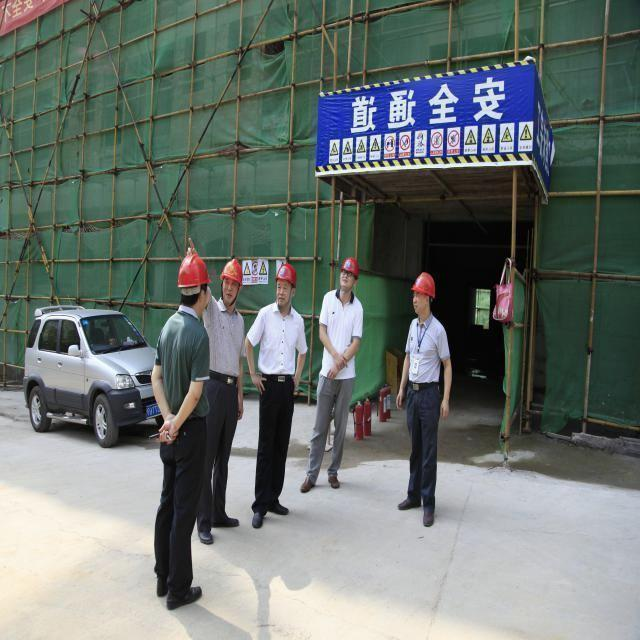10: (136, 240, 216, 622), (374, 262, 476, 540), (297, 252, 378, 502), (193, 258, 256, 546), (244, 255, 306, 531)
2: (204, 242, 252, 314), (401, 264, 446, 326), (323, 245, 367, 303), (265, 248, 290, 316)
7: (384, 359, 419, 413), (319, 336, 356, 384), (437, 366, 460, 420)
helmet_white: (166, 586, 203, 611), (397, 497, 422, 511), (212, 516, 239, 528), (299, 476, 316, 495), (268, 501, 289, 516), (422, 505, 435, 528), (198, 528, 213, 545), (251, 510, 264, 529), (327, 476, 341, 490)
